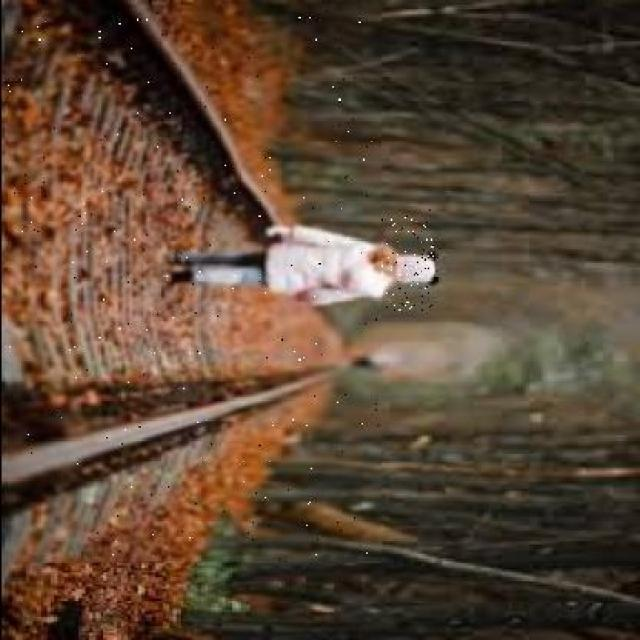danger: (164, 205, 432, 310)
rail: (6, 6, 379, 562)
